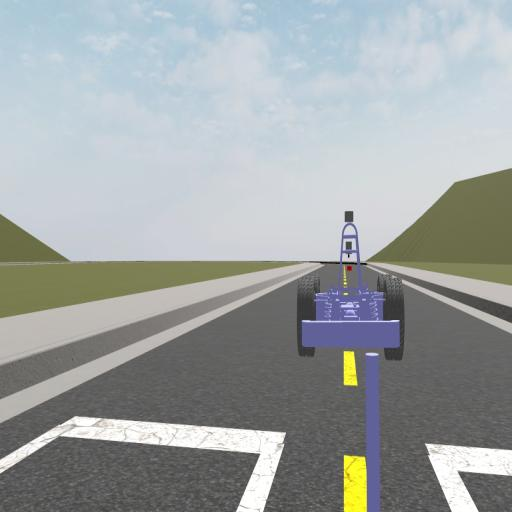ERP-42: (298, 209, 404, 362)
